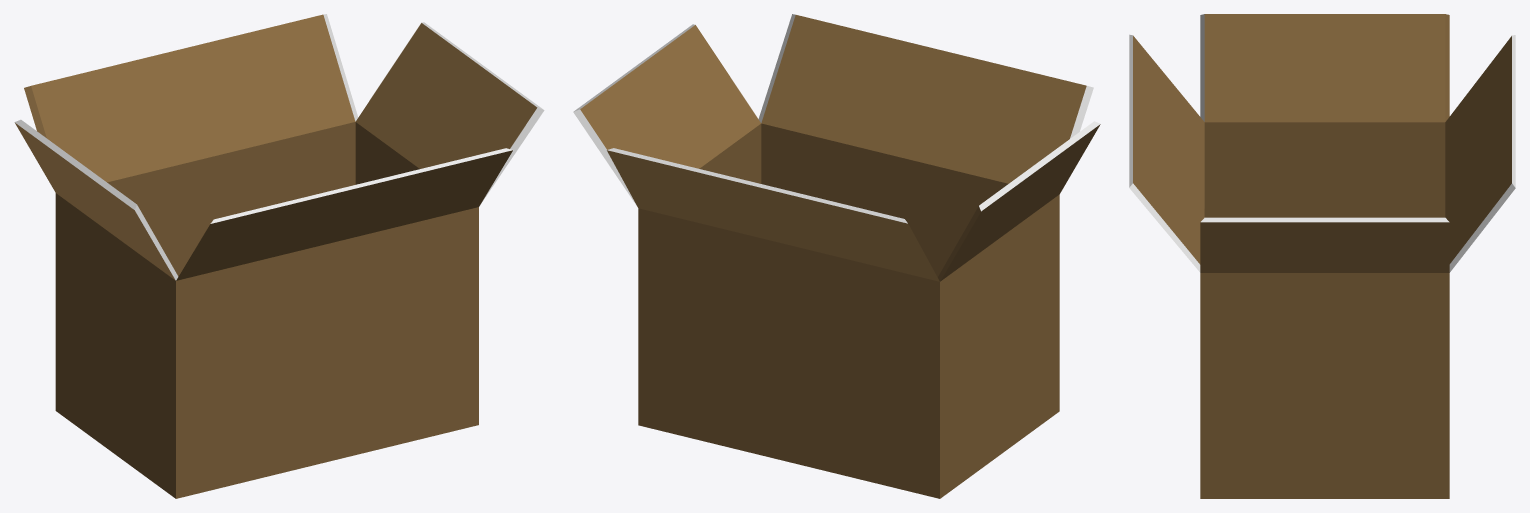
File: Dechet_Carton_H.fbx
3 views of the same model, side by side, from view 1: azimuth 30°, elevation 25°; view 2: azimuth 150°, elevation 25°; view 3: azimuth 270°, elevation 25° (orthographic). The views are drawn at different scales.
Parts seen in each view (by area): view 1: Carton; view 2: Carton; view 3: Carton.
Boxes of the visible parts, <box> form: Carton: <box>14,14,544,498</box>; Carton: <box>573,14,1100,498</box>; Carton: <box>1129,14,1515,498</box>.
Bounding box in the file's own units: 1164 × 820 × 917.
